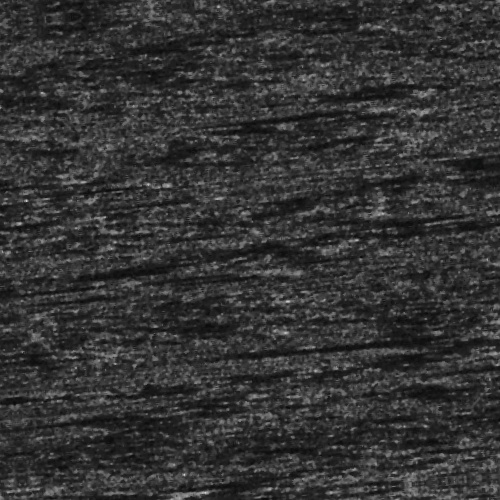object: (440, 349, 500, 358), (364, 115, 405, 122), (141, 481, 182, 484), (54, 197, 75, 202)
shadow: (297, 349, 492, 358), (384, 240, 500, 253), (218, 115, 384, 122), (0, 481, 162, 484), (0, 197, 64, 202), (447, 388, 500, 391)
